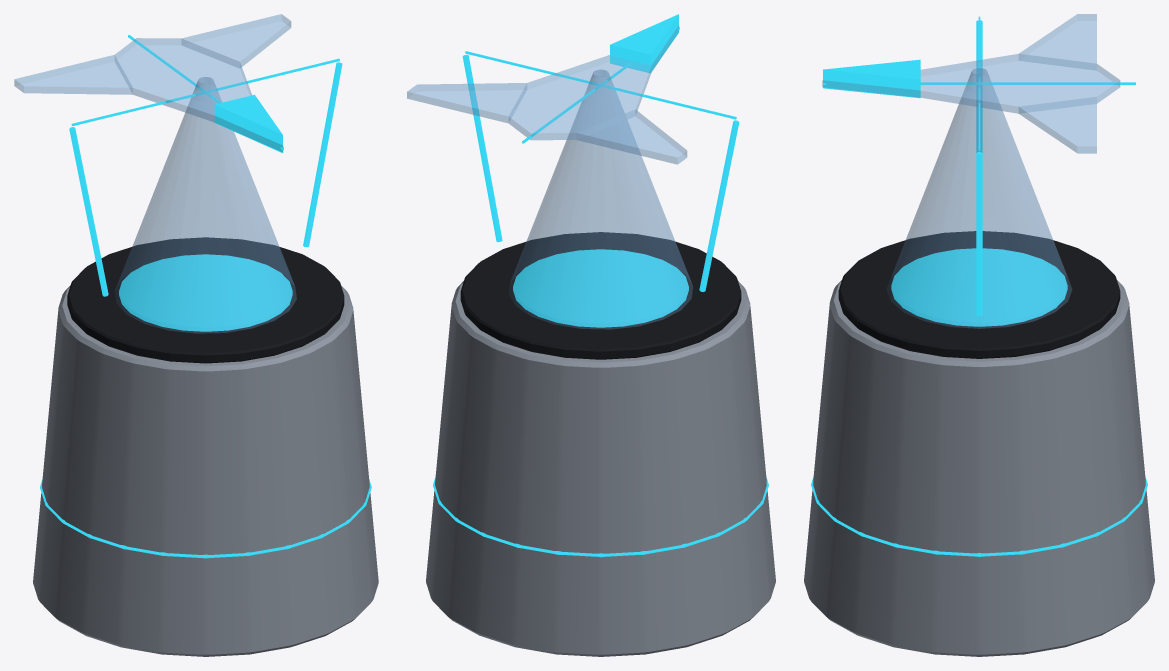
The model's file is holo_ship_schematic_projector.glb.
3 views of the same model, side by side, from view 1: azimuth 30°, elevation 25°; view 2: azimuth 150°, elevation 25°; view 3: azimuth 270°, elevation 25° (orthographic).
Visible parts, largest first — view 1: holo_ship_schematic_projector; view 2: holo_ship_schematic_projector; view 3: holo_ship_schematic_projector.
Part boxes in pixels (bbox=[...]): holo_ship_schematic_projector: bbox=[14, 14, 378, 656]; holo_ship_schematic_projector: bbox=[407, 14, 775, 656]; holo_ship_schematic_projector: bbox=[804, 14, 1154, 656].
Bounding box in the file's own units: 0.8957 × 1.45 × 0.8957.
